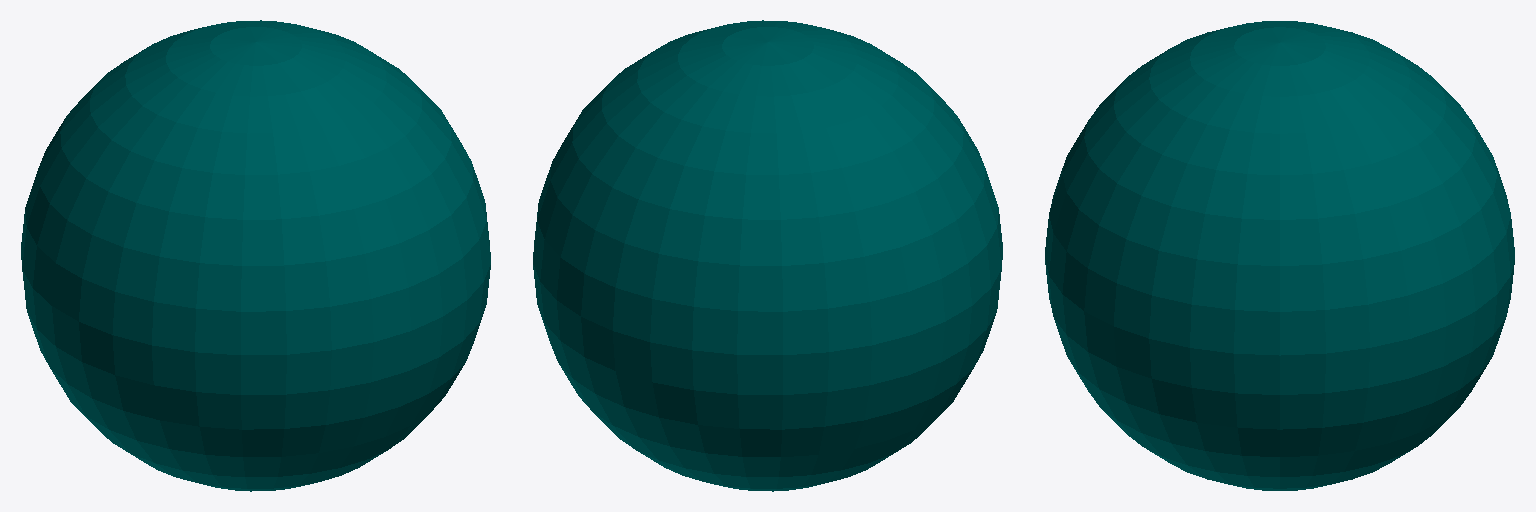
robot.urdf — end_effector:
<?xml version="1.0" ?>
<!-- This urdf is used to feed into the meshcat visualizer to visualize the sample locations for sampling based mpc -->
<robot name="end_effector">
    <link name="end_effector">
   <inertial>
      <origin rpy="0 0 0" xyz="0 0 0.0153"/>
      <mass value="0.057"/>
      <interia ixx="0.0" iyy="0.0" izz="0.0" ixy="0" ixz="0" iyz="0"/>
    </inertial>
    <visual>
      <origin rpy="0 0 0" xyz="0 0 0.0153"/>
      <geometry>
        <sphere radius="0.005"/>
      </geometry>
            <material>
    <!-- <color rgba="1 0.75 0.79 1"/> blue transparent color for visualization -->
    <color rgba="0 0.4 0.4 1"/> <!-- cyan color for visualization -->
    </material>
    </visual>
    <collision>
      <origin rpy="0 0 0" xyz="0 0 0.0153"/>
      <geometry>
        <sphere radius="0.005"/>
      </geometry>
    </collision>
  </link>
    
</robot>

--- Facts derived from the render (not from the file) ---
3 views of the same robot in one strip: view 1: azimuth 30°, elevation 25°; view 2: azimuth 150°, elevation 25°; view 3: azimuth 270°, elevation 25° (orthographic).
Model end_effector with 1 links and 0 joints (none), rooted at end_effector, posed all joints at 0.
Visible links, largest first — view 1: end_effector; view 2: end_effector; view 3: end_effector.
Boxes of the visible links, x1=… form: end_effector: x1=21, y1=20, x2=490, y2=491; end_effector: x1=533, y1=20, x2=1002, y2=491; end_effector: x1=1045, y1=21, x2=1514, y2=490.
Bounding box of the posed robot: 0.01 × 0.01 × 0.01 m (x, y, z).
Geometry: primitives only (box / cylinder / sphere), no mesh files.
